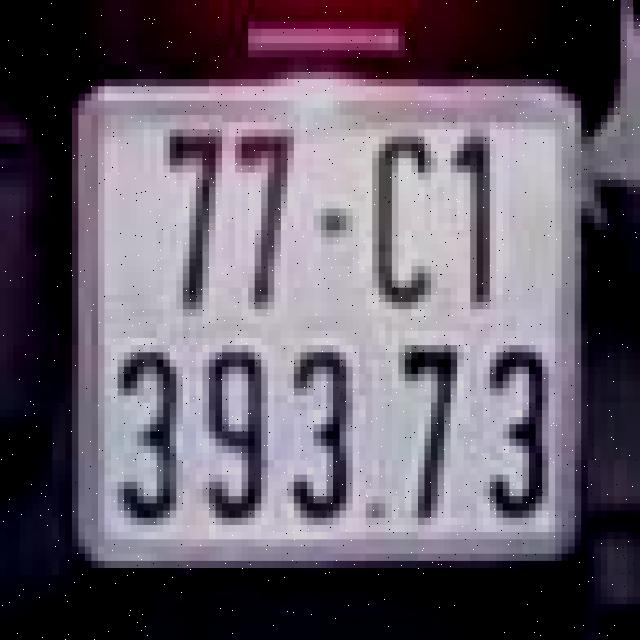1: (450, 119, 510, 312)
3: (101, 342, 186, 528), (483, 324, 555, 525), (294, 338, 359, 532)
7: (379, 334, 470, 528), (225, 122, 297, 338), (163, 104, 222, 320)
9: (206, 327, 264, 536)
C: (362, 126, 441, 313)
